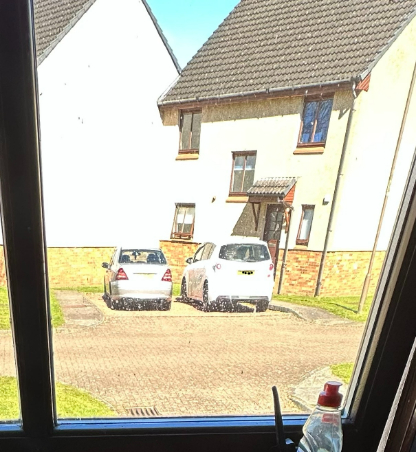car: (181, 236, 279, 311), (96, 244, 178, 314)
